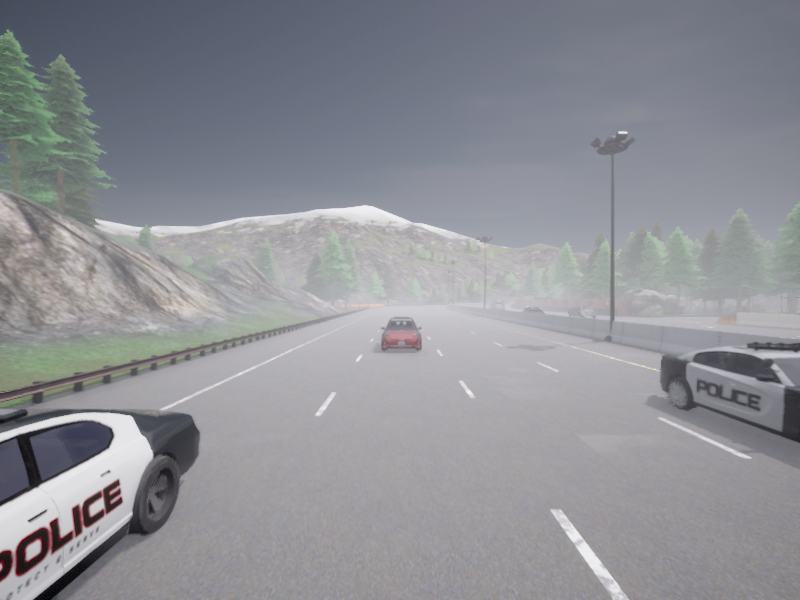vehicle: (0, 409, 200, 599), (659, 342, 799, 442), (381, 317, 421, 350), (567, 306, 595, 317), (488, 300, 504, 309), (521, 307, 542, 313), (523, 306, 530, 308)
